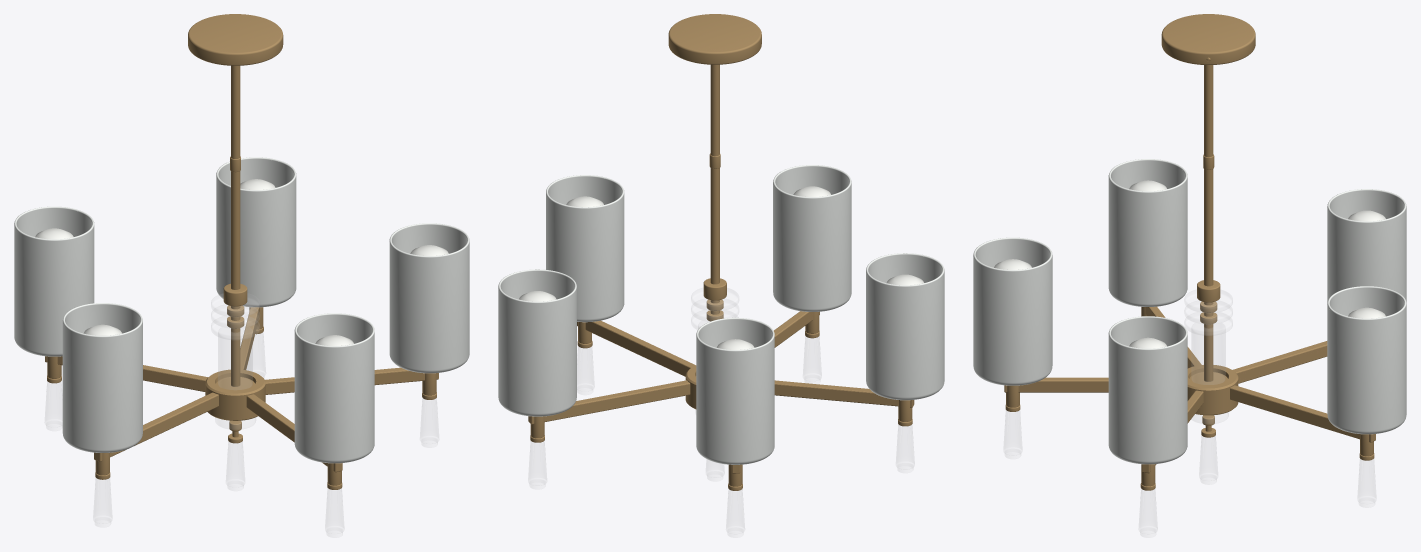
3 views of the same model, side by side, from view 1: azimuth 30°, elevation 25°; view 2: azimuth 150°, elevation 25°; view 3: azimuth 270°, elevation 25° (orthographic). The views are drawn at different scales.
Visible parts, largest first — view 1: opal, metal, crystal, L0_bulb; view 2: opal, metal, crystal, L0_bulb; view 3: opal, metal, crystal, L0_bulb.
Part boxes in pixels (<box>): opal: <box>14,157,469,463</box>; metal: <box>45,14,438,489</box>; crystal: <box>44,294,438,537</box>; L0_bulb: <box>35,179,448,345</box>; opal: <box>498,165,944,464</box>; metal: <box>528,14,914,490</box>; crystal: <box>528,288,914,537</box>; L0_bulb: <box>519,186,923,349</box>; opal: <box>973,159,1406,464</box>; metal: <box>1004,14,1375,490</box>; crystal: <box>1004,290,1375,537</box>; L0_bulb: <box>994,180,1385,348</box>.
Size of the model in its own units: 0.5765 by 0.632 by 0.5533.
4 materials, 4 textured.
